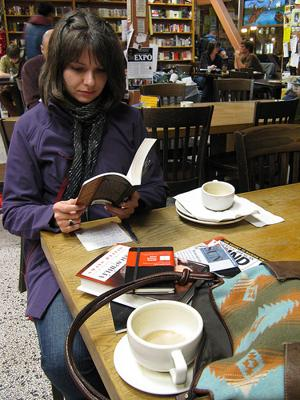person: (3, 11, 170, 400)
